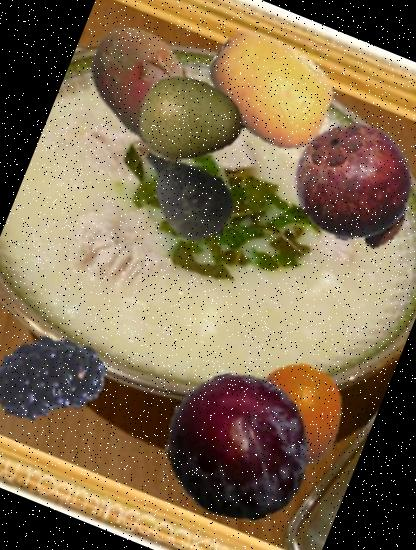Beetroot: (108, 118, 266, 276)
Grapefruit: (226, 346, 363, 483)
Kumquats: (186, 3, 358, 174)
Mangostan: (270, 100, 416, 272)
Mulberry: (0, 305, 122, 451)
Pear: (121, 45, 264, 189)
Plum: (139, 350, 333, 544)
Potato: (54, 0, 244, 186)
